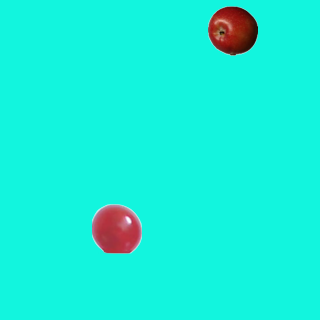Apple Braeburn: (207, 5, 257, 55)
Redcurrant: (91, 203, 141, 253)
